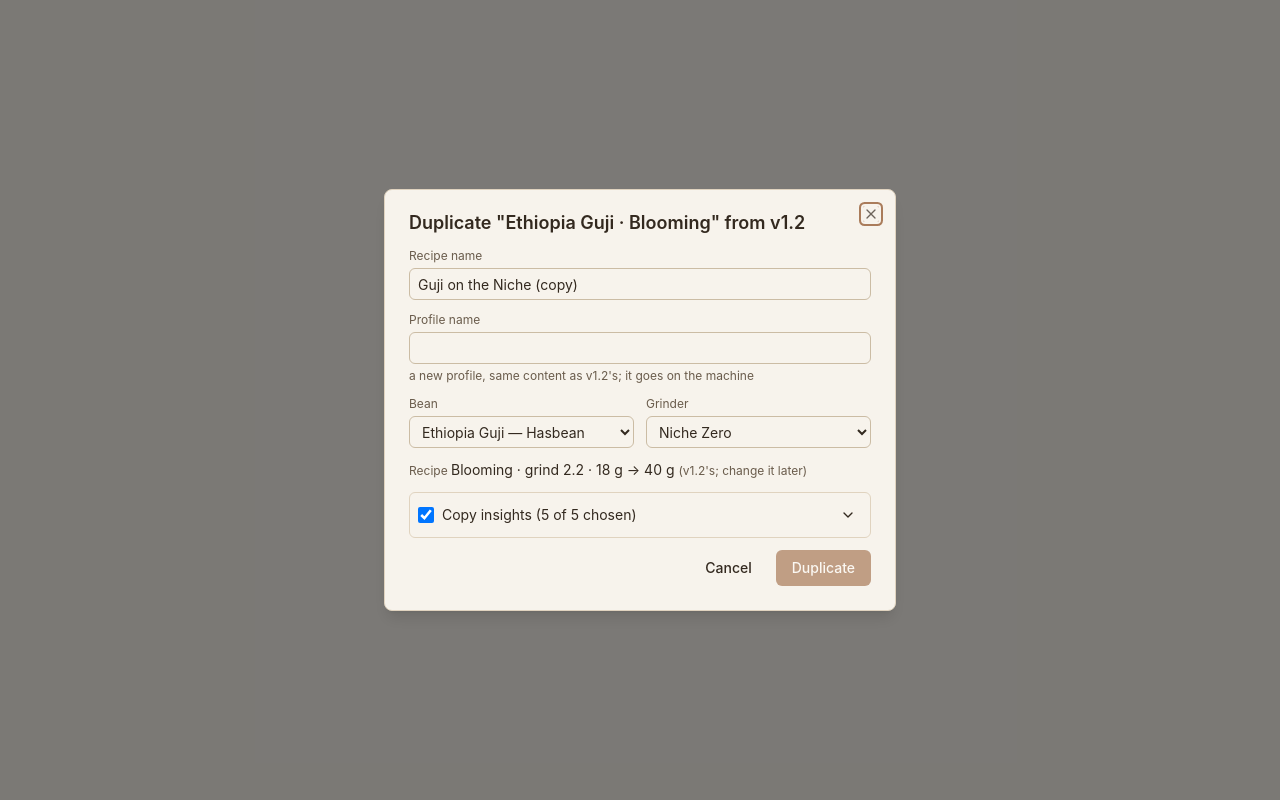
Test: the server's words, in place › shows any other refusal in place and keeps the form
Expected: the element with test id "duplicate-recipe" is shown, [409, 460, 871, 480]
Expected: the dropdown labelled "Bean" shows "Ethiopia Guji — Hasbean", [409, 416, 634, 448]
Type "P" into the field labelled "Profile name" at (640, 348), box [409, 332, 871, 364]
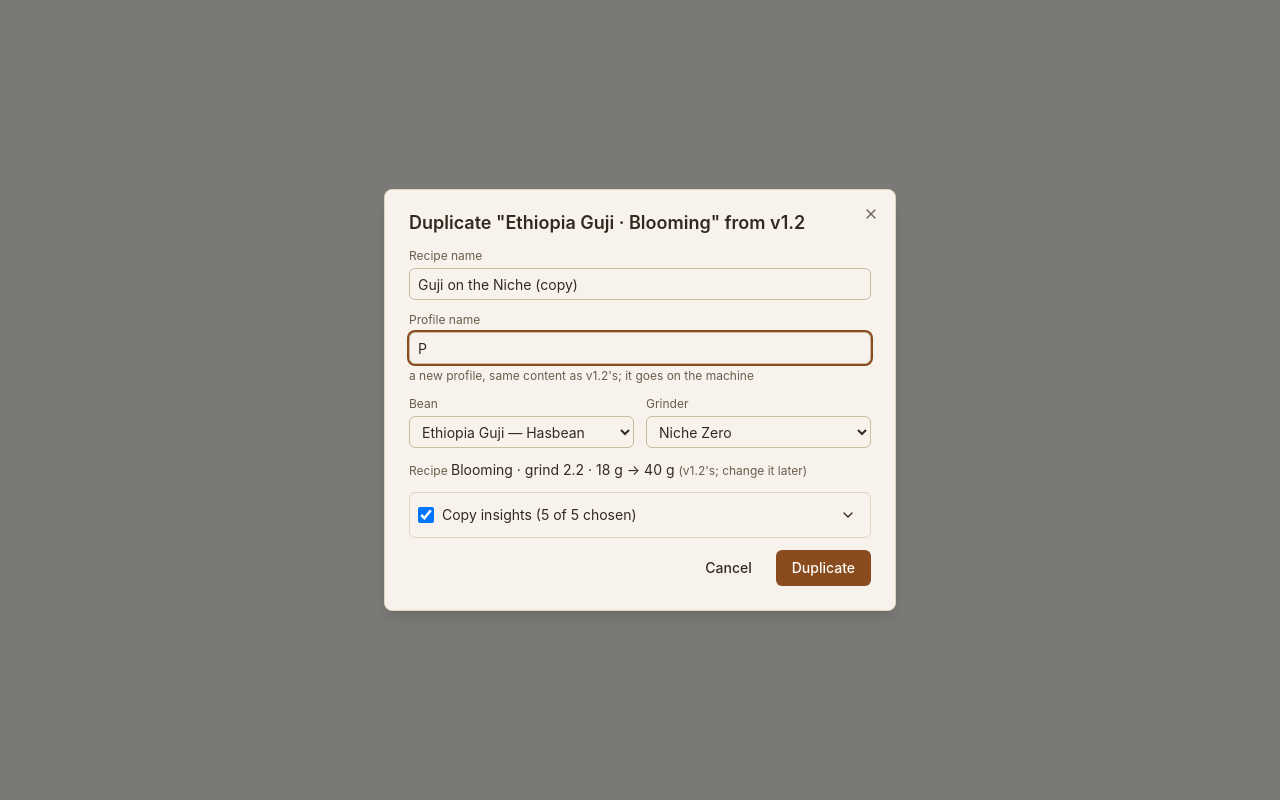
Click the button "Duplicate" at (823, 568), box [776, 550, 871, 586]
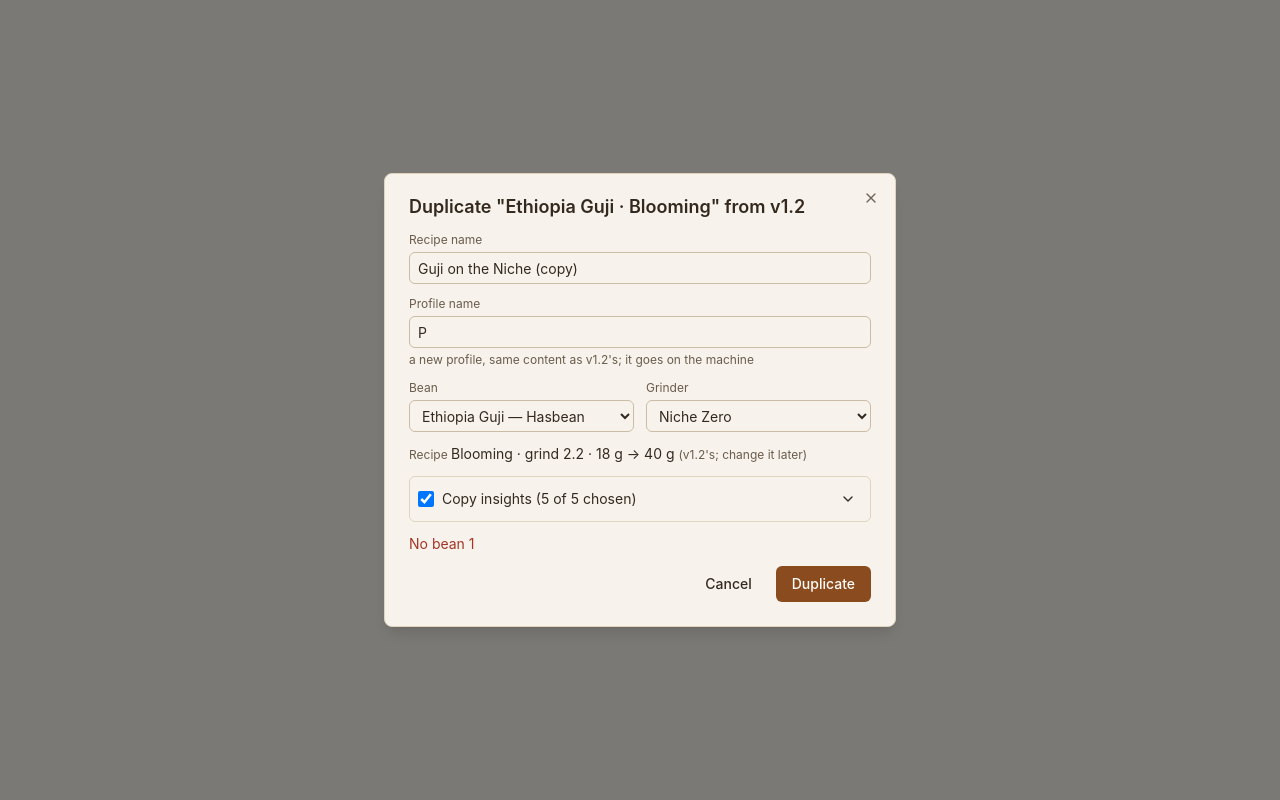
Expected: the message with test id "duplicate-other" reads "No bean 1", [409, 535, 474, 552]
